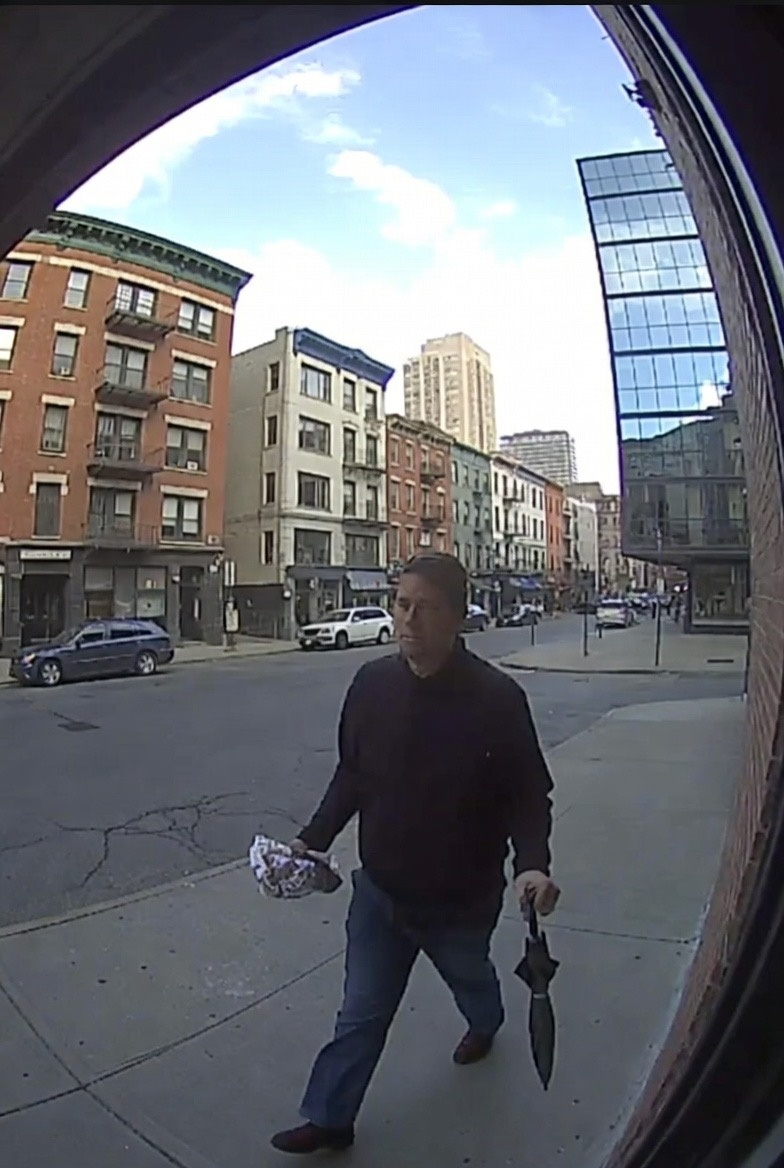person: (269, 555, 582, 1168)
umbrella: (518, 885, 573, 1083)
